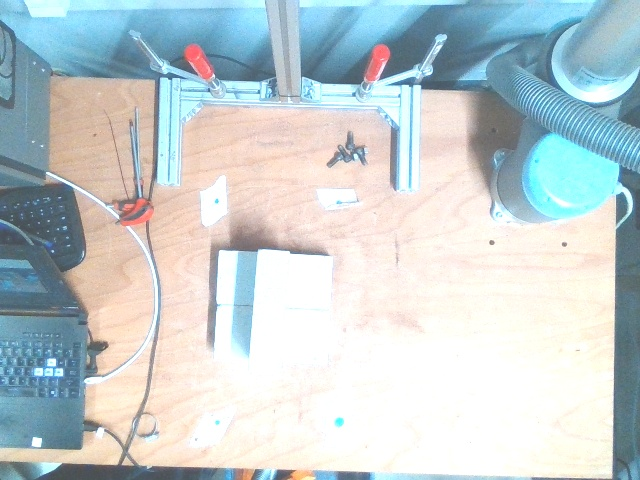brick-side: (246, 250, 289, 373)
